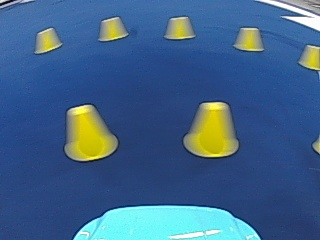cone: (63, 104, 115, 161), (185, 102, 237, 158), (164, 16, 195, 40), (34, 26, 61, 53), (98, 16, 127, 40), (234, 27, 263, 50), (298, 44, 318, 69)
